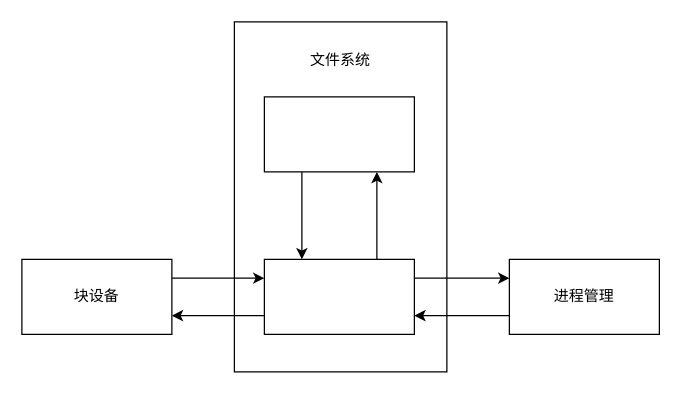
Image size: 681x394. Some labels were removed from this diagram. Here are the shapes that lost their labels. From the top down, the centre of each, then its label:
point 338,134: 具体结构
point 338,296: 接口处理
